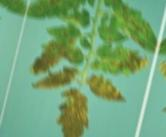Tomato Septoria leaf spot: (95, 0, 166, 56), (90, 38, 151, 82), (27, 0, 96, 34), (45, 20, 91, 48), (95, 24, 132, 47)
